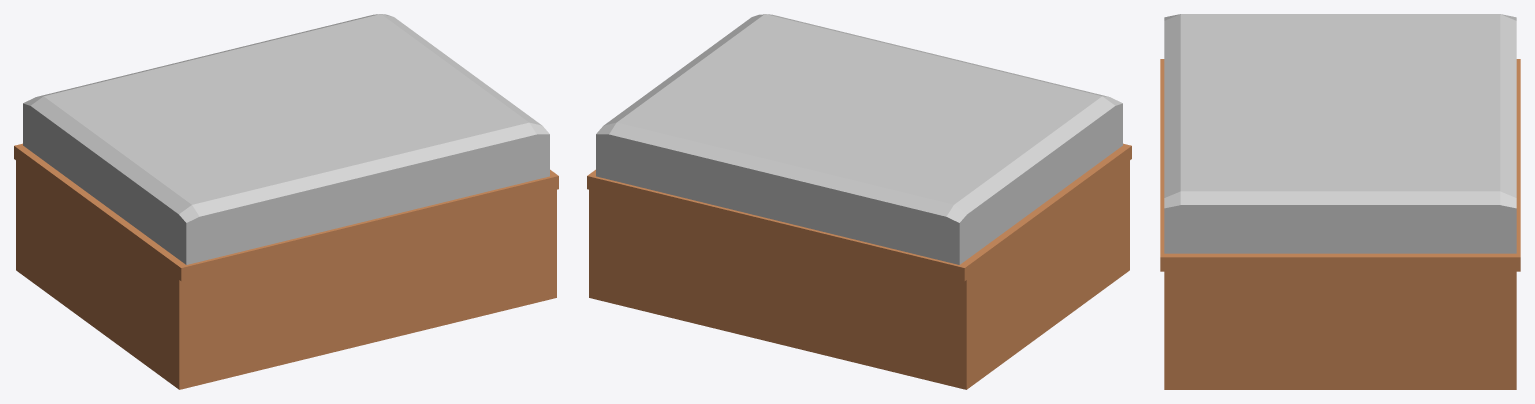
File: lowerBedWıthCabinet.fbx
3 renders of one model, left to right at view 1: azimuth 30°, elevation 25°; view 2: azimuth 150°, elevation 25°; view 3: azimuth 270°, elevation 25°, orthographic. The views are drawn at different scales.
Visible parts, largest first — view 1: Cube.005; view 2: Cube.005; view 3: Cube.005.
Boxes of the visible parts, x1=… form: Cube.005: x1=14, y1=14, x2=558, y2=389; Cube.005: x1=587, y1=14, x2=1131, y2=389; Cube.005: x1=1160, y1=14, x2=1520, y2=389.
Size of the model in its own units: 219 by 126 by 286.
